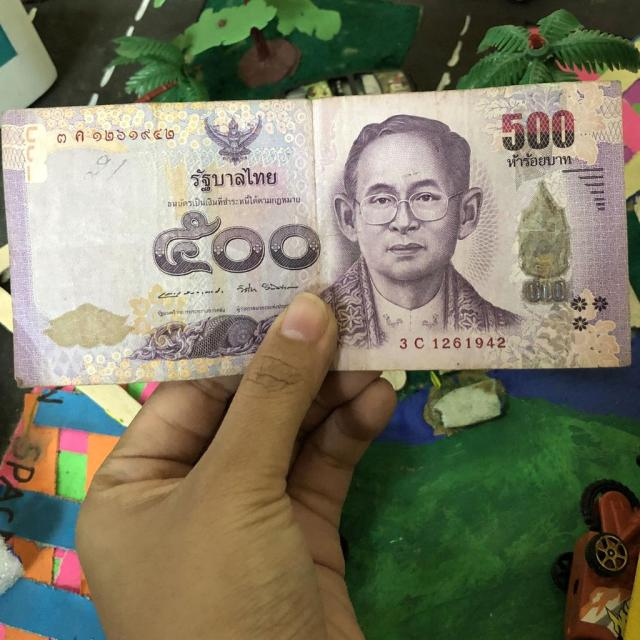THAI500: (0, 76, 639, 392)
